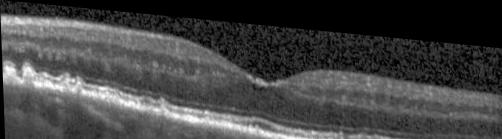retinal_drusen: (92, 93, 133, 106), (4, 70, 17, 84), (22, 70, 33, 86), (42, 79, 54, 87), (157, 102, 167, 111), (60, 81, 68, 91), (74, 83, 81, 94)
